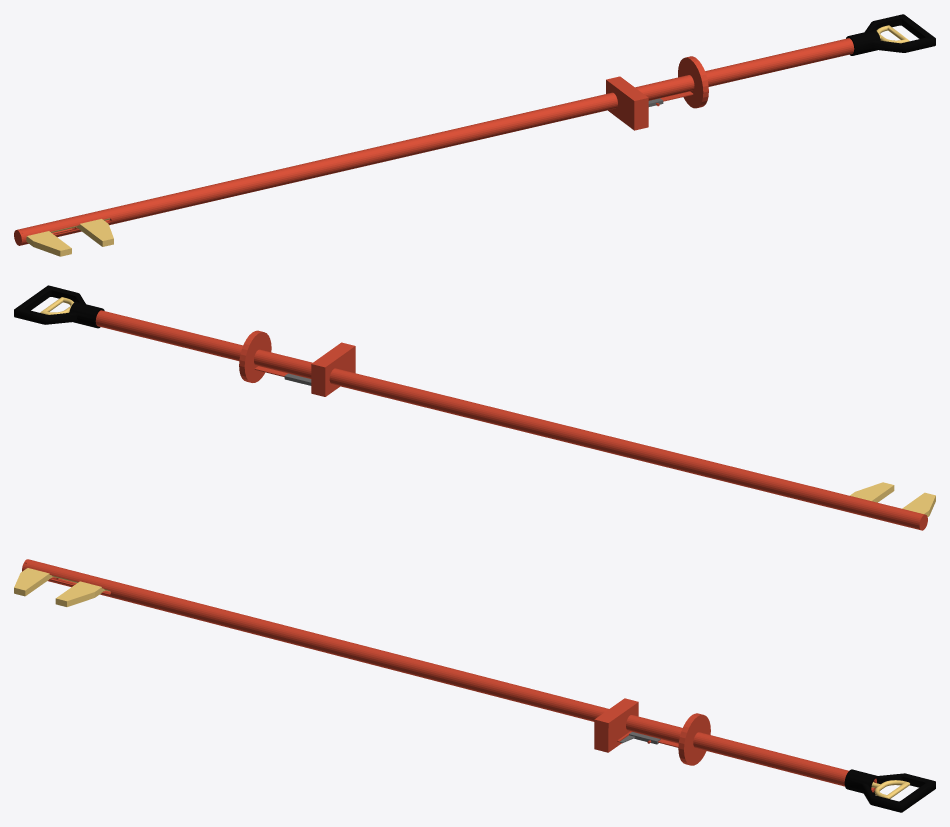
Rendered from 绝缘尺.glb.
3 renders of one model, top to bottom at view 1: azimuth 30°, elevation 25°; view 2: azimuth 150°, elevation 25°; view 3: azimuth 330°, elevation 25°, orthographic.
Visible parts, largest first — view 1: 绝缘尺; view 2: 绝缘尺; view 3: 绝缘尺.
Part boxes in pixels (<box>): 绝缘尺: <box>14,14,935,256</box>; 绝缘尺: <box>14,285,935,530</box>; 绝缘尺: <box>14,559,935,812</box>.
Bounding box in the file's own units: 9.09 × 0.4582 × 0.6504.
Materials: 4 (3 with a texture image).
